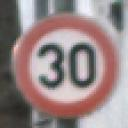speed_limit_30: (11, 12, 119, 120)
